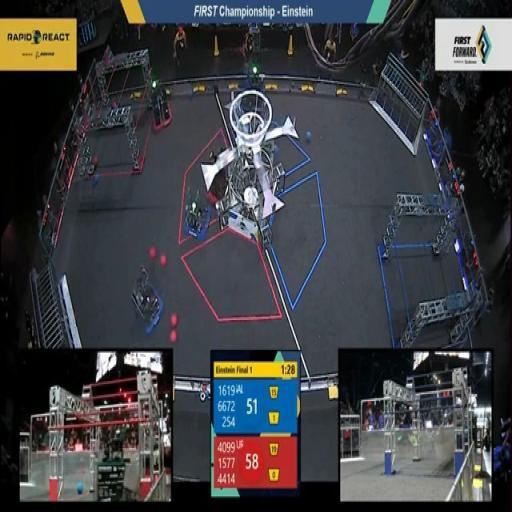robot: (130, 264, 165, 340), (181, 190, 212, 243), (204, 147, 228, 205), (149, 76, 172, 136), (241, 67, 266, 117)
